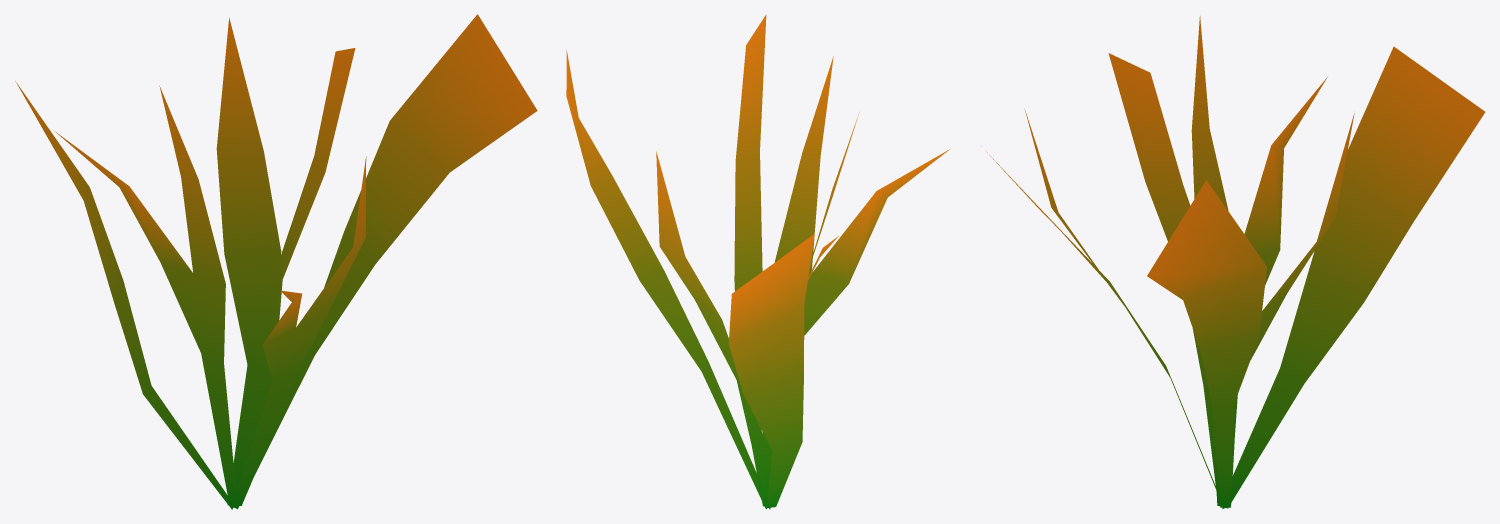
Rendered from Common Eelgrass_LOD2_Var1_sjglk.fbx.
3 renders of one model, left to right at view 1: azimuth 30°, elevation 25°; view 2: azimuth 150°, elevation 25°; view 3: azimuth 270°, elevation 25°, orthographic. The views are drawn at different scales.
Parts seen in each view (by area): view 1: _aeb9_Var1_LOD2; view 2: _aeb9_Var1_LOD2; view 3: _aeb9_Var1_LOD2.
Boxes of the visible parts, bbox=[...] form: _aeb9_Var1_LOD2: bbox=[15, 14, 537, 509]; _aeb9_Var1_LOD2: bbox=[566, 14, 949, 509]; _aeb9_Var1_LOD2: bbox=[981, 16, 1485, 508].
Size of the model in its own units: 86.17 by 101 by 95.17.
